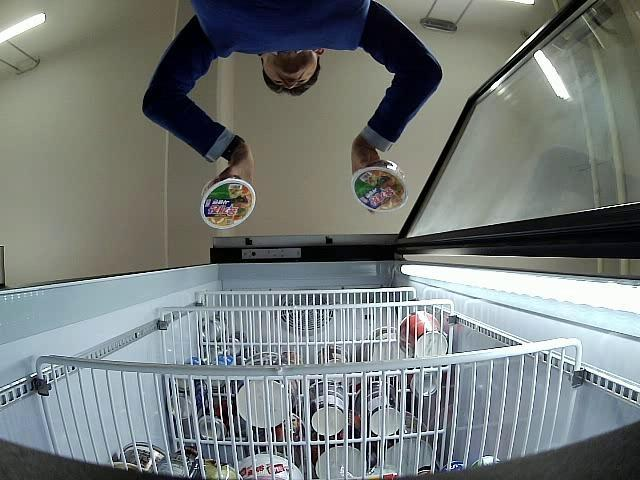09_yukGaeJang: (200, 176, 256, 230), (352, 160, 408, 213)
